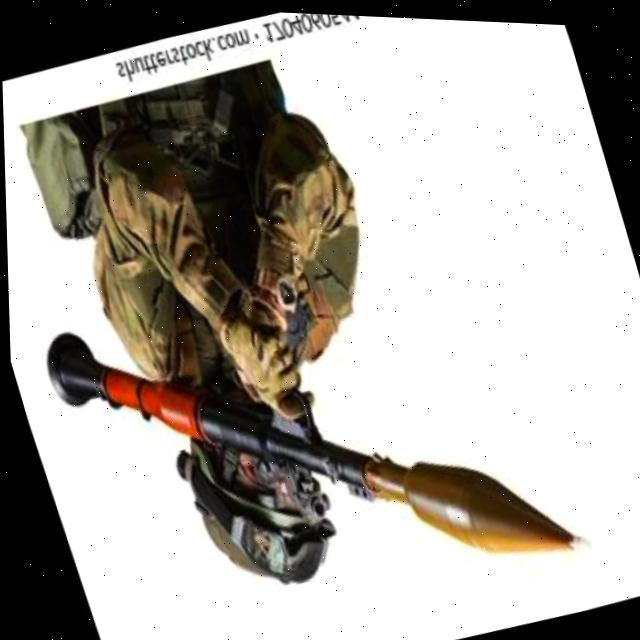rocket: (24, 199, 586, 640)
